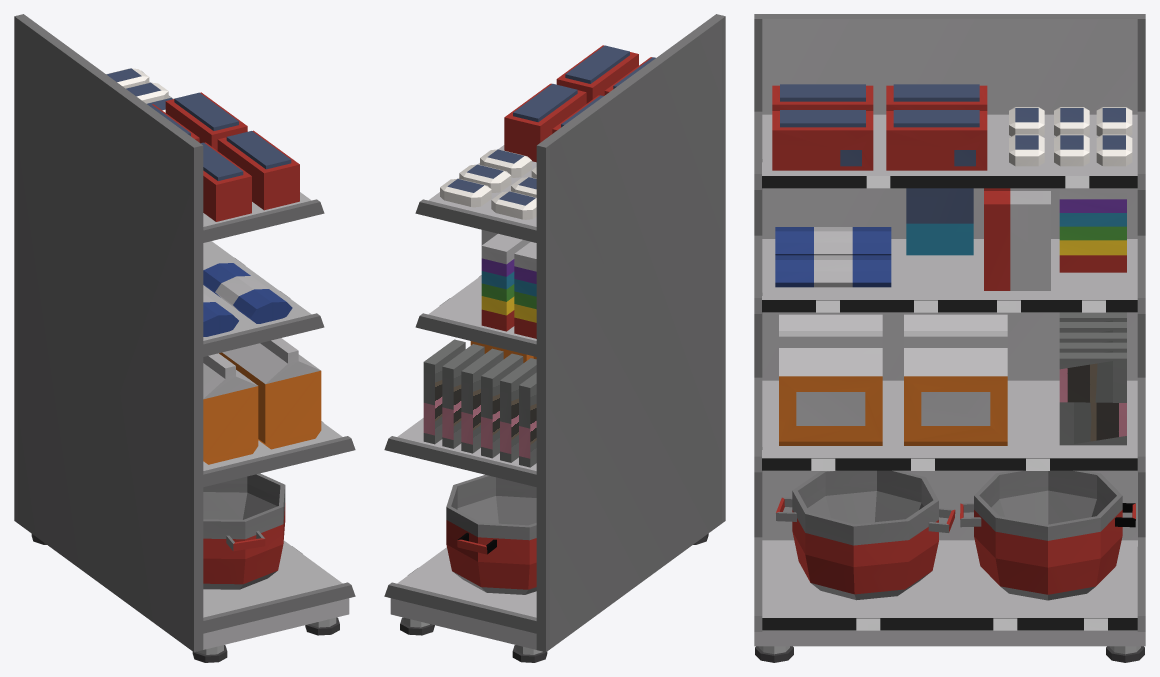
The model's file is SM_shopShelve_06.glb.
The picture shows the model from 3 angles, left to right: view 1: azimuth 30°, elevation 25°; view 2: azimuth 150°, elevation 25°; view 3: azimuth 270°, elevation 25°; orthographic projection. The views are drawn at different scales.
Parts seen in each view (by area): view 1: SM_shopShelve_06; view 2: SM_shopShelve_06; view 3: SM_shopShelve_06.
Boxes of the visible parts, x1,y1,x2,y2 form: SM_shopShelve_06: [14, 14, 355, 662]; SM_shopShelve_06: [384, 14, 725, 662]; SM_shopShelve_06: [754, 14, 1145, 662].
Size of the model in its own units: 0.52 by 1.6 by 1.
Materials: 1 (1 with a texture image).
